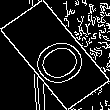O_NE: (18, 23, 92, 87)
